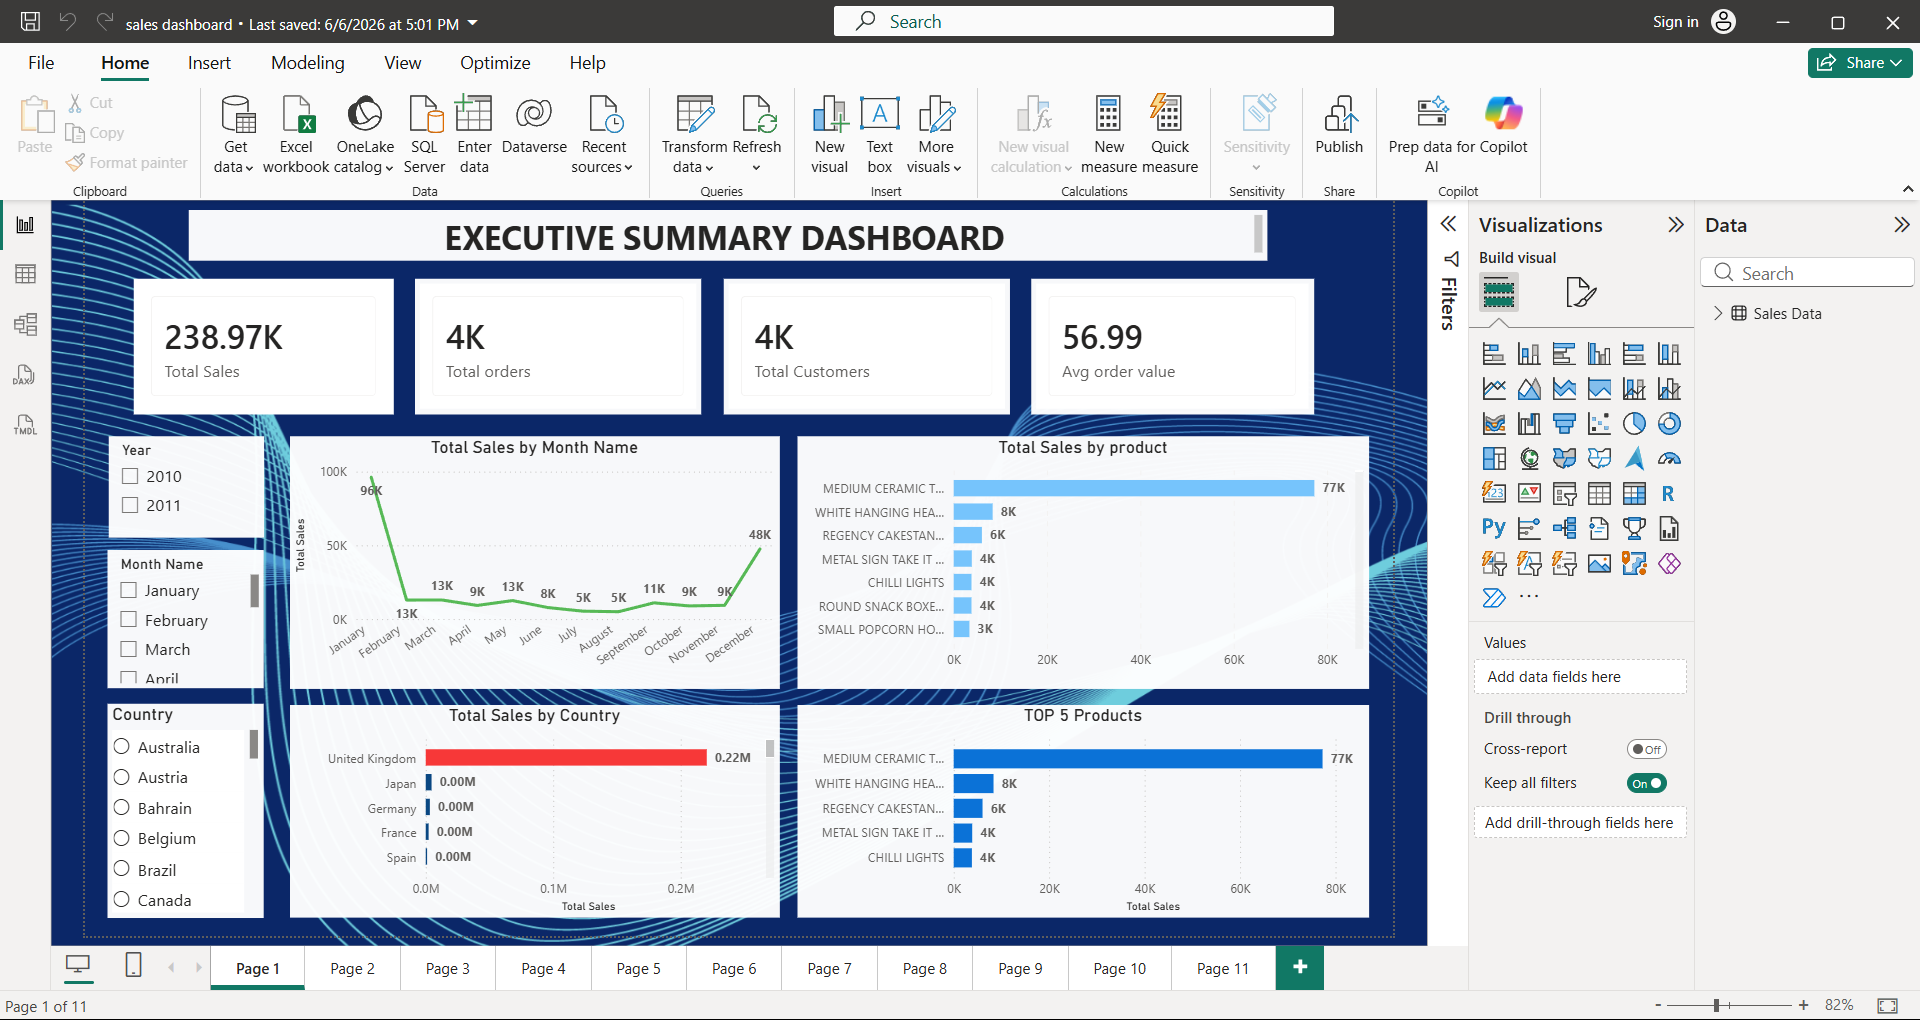

Layout of this report page (visuals, bound fields, positions):
{"tool":"powerbi","page":{"name":"Page 1","canvas":[1280,720],"ordinal":0},"visuals":[{"type":"cardVisual","fields":{"Data":["Sales Data.Total Sales"]},"box":[48.2,77.6,254.1,132.9],"z":0},{"type":"cardVisual","fields":{"Data":["Sales Data.total transactions"]},"box":[322.7,77.6,280,132.9],"z":1000},{"type":"cardVisual","fields":{"Data":["Sales Data.Total Customers"]},"box":[624.7,77.6,280,132.9],"z":2000},{"type":"cardVisual","fields":{"Data":["Sales Data.Avg order value"]},"box":[925.9,77.6,276.5,132.9],"z":3000},{"type":"lineChart","fields":{"Y":["Sales Data.Total Sales"],"Category":["Sales Data.Month Name"]},"box":[200,230.6,478.8,247.1],"z":4000},{"type":"barChart","fields":{"Category":["Sales Data.Description"],"Y":["Sales Data.Total Sales"]},"box":[696.5,230.6,558.8,247.1],"z":5000},{"type":"textbox","box":[101.2,9.4,1055.3,49.4],"z":6000},{"type":"barChart","fields":{"Y":["Sales Data.Total Sales"],"Category":["Sales Data.Country"]},"box":[200,494.1,478.8,208.2],"z":7000},{"type":"barChart","title":"TOP 5 Products","fields":{"Category":["Sales Data.Description"],"Y":["Sales Data.Total Sales"]},"box":[696.5,494.1,558.8,208.2],"z":8000},{"type":"slicer","fields":{"Values":["Sales Data.Year"]},"box":[23.5,230.6,151.8,98.8],"z":9000},{"type":"slicer","fields":{"Values":["Sales Data.Month Name"]},"box":[22.4,342.4,152.9,135.3],"z":10000},{"type":"listSlicer","fields":{"Values":["Sales Data.Country"]},"box":[22.4,492.9,152.9,209.4],"z":11000}]}

Visuals, with their boxes on the page's 1280x720 design canvas (x1, y1, x2, y2). These are canvas units, not pixel positions in the 1920x1020 screenshot, which may show the page scaled, cropped or inside an application window:
cardVisual - Sales Data.Total Sales: box=[48, 78, 302, 210]
cardVisual - Sales Data.total transactions: box=[323, 78, 603, 210]
cardVisual - Sales Data.Total Customers: box=[625, 78, 905, 210]
cardVisual - Sales Data.Avg order value: box=[926, 78, 1202, 210]
lineChart - Sales Data.Total Sales x Sales Data.Month Name: box=[200, 231, 679, 478]
barChart - Sales Data.Description x Sales Data.Total Sales: box=[696, 231, 1255, 478]
textbox: box=[101, 9, 1156, 59]
barChart - Sales Data.Total Sales x Sales Data.Country: box=[200, 494, 679, 702]
"TOP 5 Products" barChart: box=[696, 494, 1255, 702]
slicer - Sales Data.Year: box=[24, 231, 175, 329]
slicer - Sales Data.Month Name: box=[22, 342, 175, 478]
listSlicer - Sales Data.Country: box=[22, 493, 175, 702]
